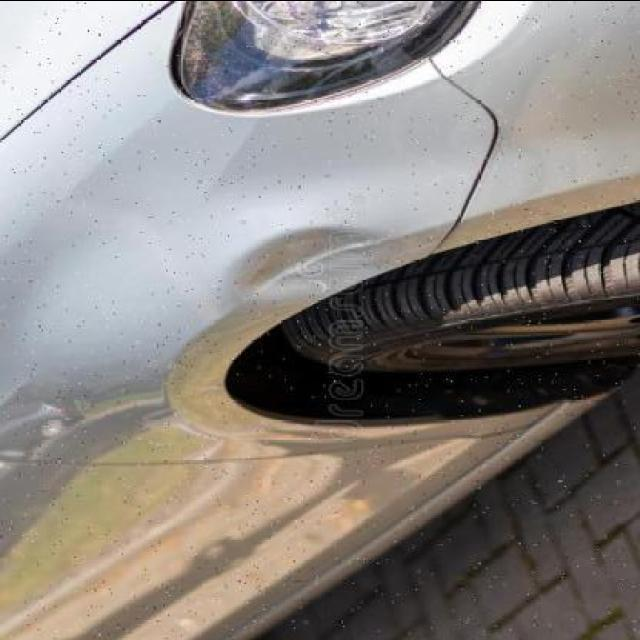fender-dent: (0, 136, 530, 453)
